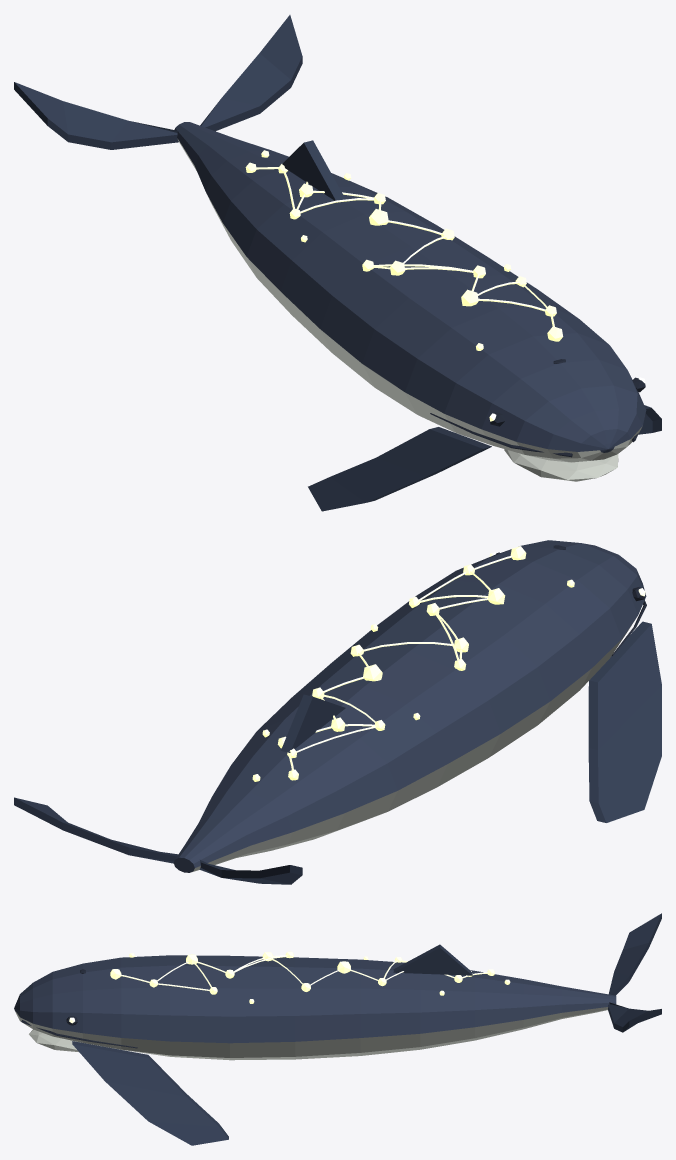
The model's file is sky_whale.glb.
3 views of the same model, one above another, from view 1: azimuth 30°, elevation 25°; view 2: azimuth 150°, elevation 25°; view 3: azimuth 270°, elevation 25° (orthographic). The views are drawn at different scales.
Parts seen in each view (by area): view 1: sky_whale; view 2: sky_whale; view 3: sky_whale.
Part boxes in pixels (left/top/right/bottom): sky_whale: left=14, top=15, right=661, bottom=511; sky_whale: left=14, top=540, right=661, bottom=884; sky_whale: left=14, top=913, right=661, bottom=1145.
Bounding box in the file's own units: 24.3 × 14.6 × 59.55.
